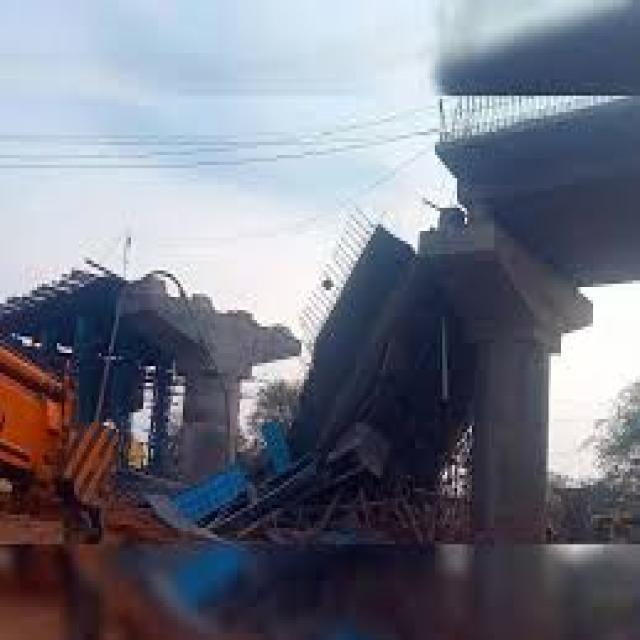bridge collapse: (56, 2, 586, 559)
